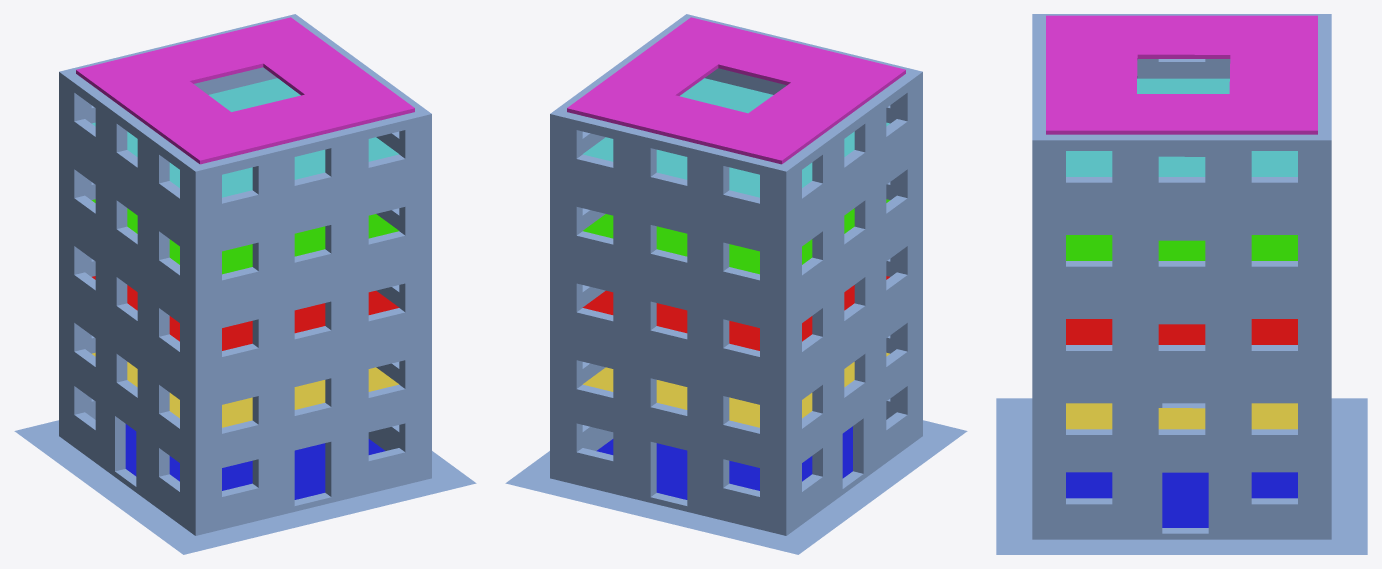
Rendered from building1.glb.
3 views of the same model, side by side, from view 1: azimuth 30°, elevation 25°; view 2: azimuth 150°, elevation 25°; view 3: azimuth 270°, elevation 25° (orthographic). The views are drawn at different scales.
Parts seen in each view (by area): view 1: Walls, Floor6, Floor5, Floor1, Floor2, Floor4, Floor3; view 2: Walls, Floor6, Floor5, Floor1, Floor2, Floor4, Floor3; view 3: Walls, Floor6, Floor1, Floor5, Floor2, Floor3, Floor4.
Boxes of the visible parts, bbox=[...] form: Walls: bbox=[14, 14, 476, 554]; Floor6: bbox=[76, 17, 414, 164]; Floor5: bbox=[91, 78, 398, 197]; Floor1: bbox=[125, 424, 385, 499]; Floor2: bbox=[92, 352, 398, 427]; Floor4: bbox=[91, 199, 398, 274]; Floor3: bbox=[92, 276, 399, 350]; Walls: bbox=[505, 14, 967, 554]; Floor6: bbox=[567, 17, 905, 164]; Floor5: bbox=[583, 78, 890, 197]; Floor1: bbox=[596, 426, 852, 499]; Floor2: bbox=[583, 352, 889, 427]; Floor4: bbox=[583, 199, 890, 274]; Floor3: bbox=[582, 276, 889, 350]; Walls: bbox=[996, 14, 1367, 554]; Floor6: bbox=[1046, 15, 1317, 134]; Floor1: bbox=[1066, 472, 1297, 527]; Floor5: bbox=[1066, 78, 1297, 176]; Floor2: bbox=[1066, 403, 1297, 429]; Floor3: bbox=[1066, 319, 1297, 344]; Floor4: bbox=[1066, 235, 1297, 260].
Size of what is drawn, in the model's own units: 16 by 19.2 by 16.
